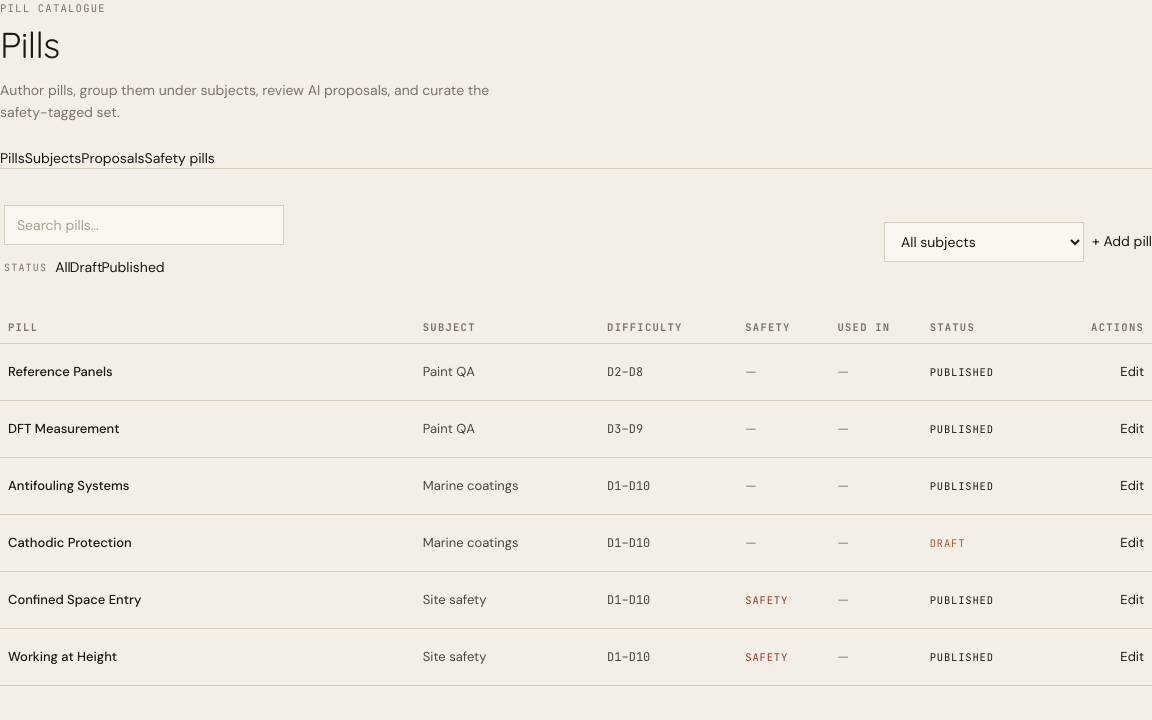
Test: pills tab — create modal › surfaces zod validation error when title or subject is empty
Step 1. Click the button with test id "pills-add-button" → (1122, 242), box x1=1092 y1=222 x2=1151 y2=262
(page scrolled)
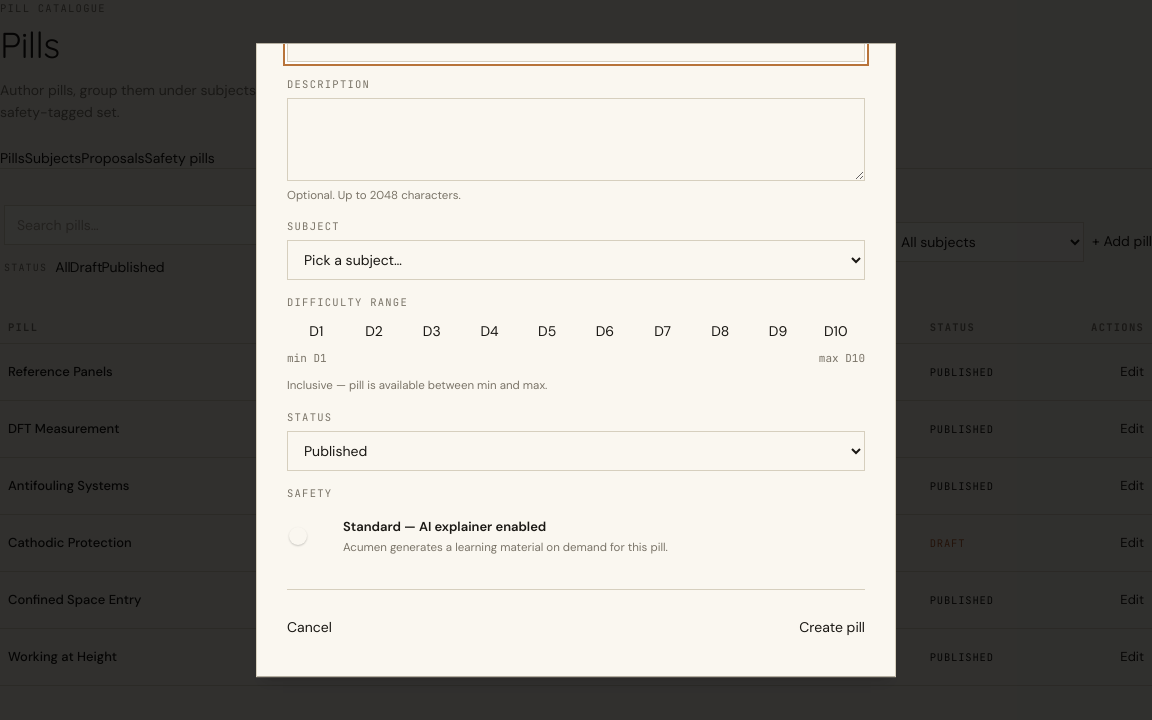
Step 2. Click the button with test id "pill-modal-submit" → (832, 628), box x1=799 y1=608 x2=865 y2=648
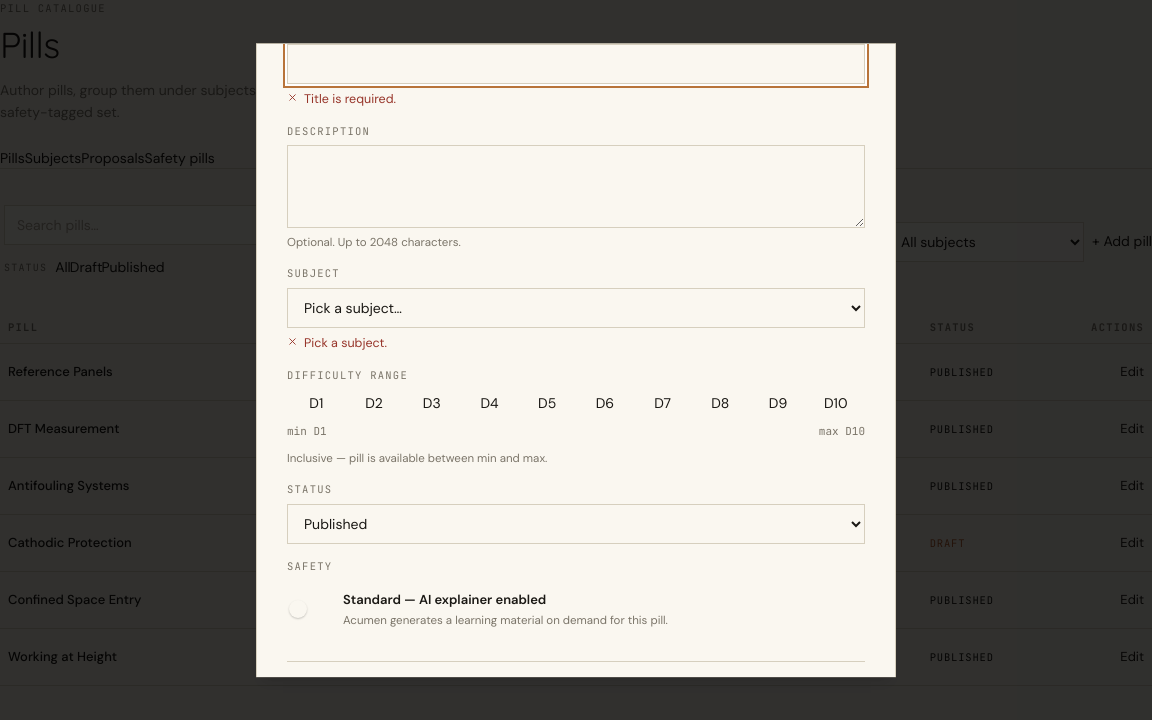
Now the form with test id "pill-modal-form" is shown, box x1=287 y1=43 x2=865 y2=677
Now the text "Title is required." is shown, box x1=304 y1=90 x2=396 y2=109
Now the text "Pick a subject." is shown, box x1=304 y1=334 x2=387 y2=353
